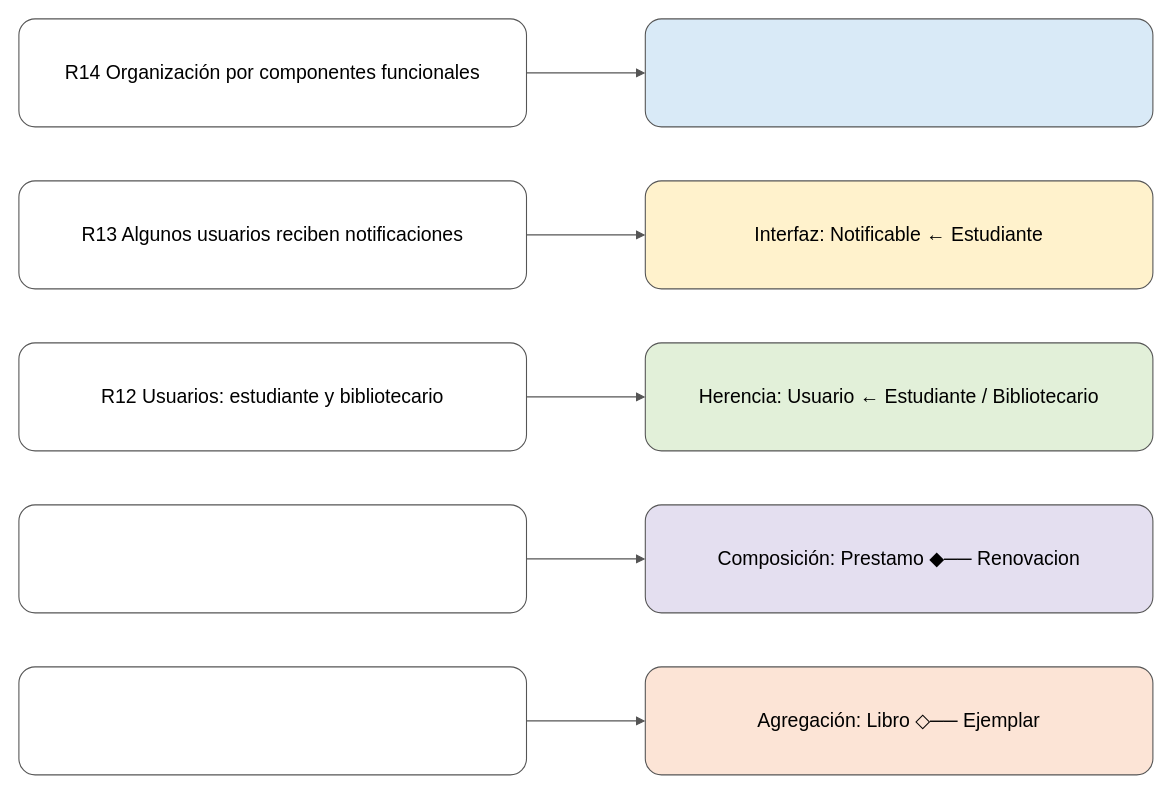
This 1172x794 diagram has some shape labels left out. Here are the shapes that lost their labels. From the top down, the centre of each, then its label:
At (898,72): "Componentes UML: Usuarios / Catálogo / Préstamos / Reservas".
At (272,558): "R11 Préstamo registra renovaciones".
At (272,720): "R10 Libro con varios ejemplares físicos".
